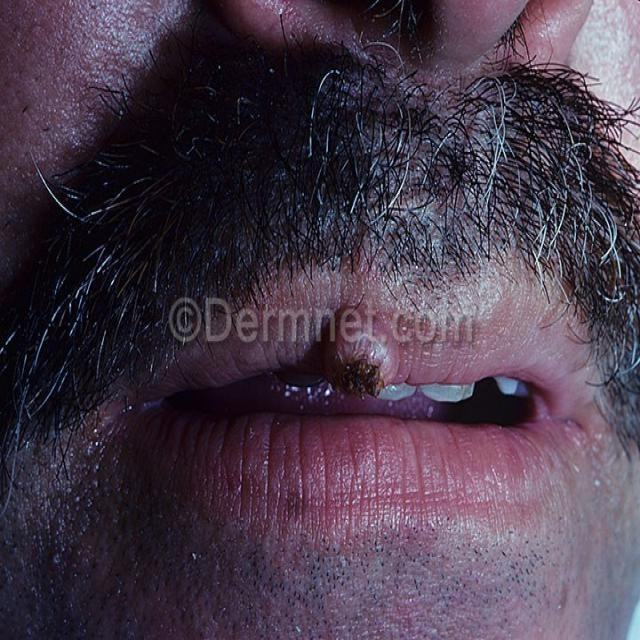Eczema: (312, 319, 400, 400)
